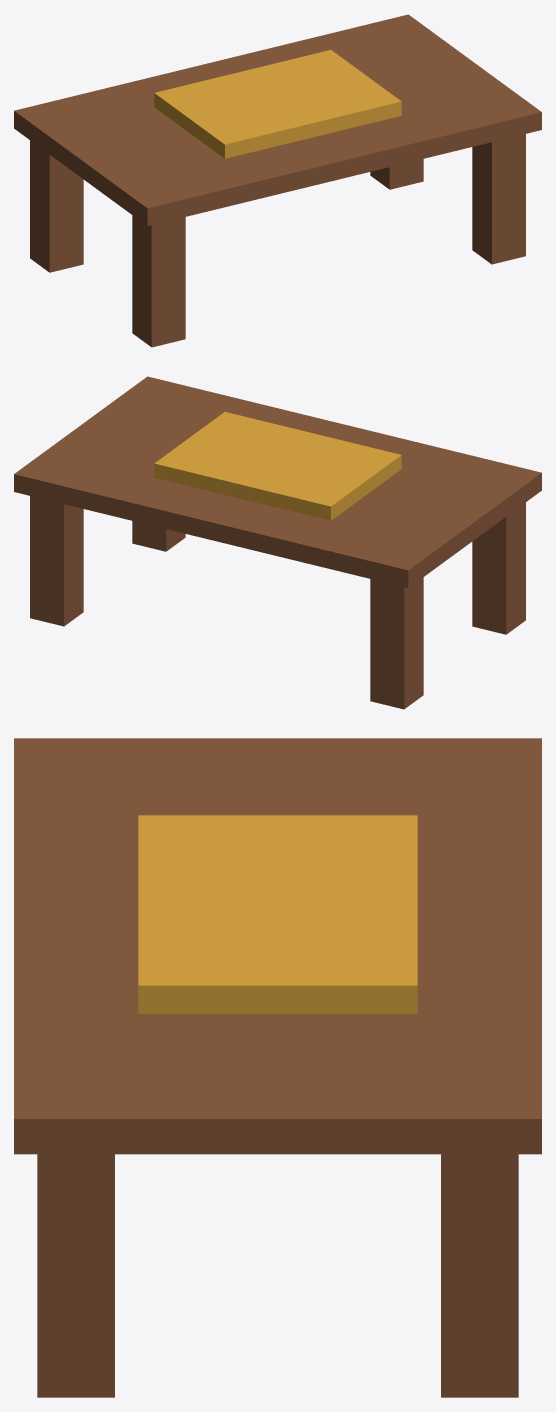
Rendered from low_table.glb.
3 views of the same model, one above another, from view 1: azimuth 30°, elevation 25°; view 2: azimuth 150°, elevation 25°; view 3: azimuth 270°, elevation 25° (orthographic). The views are drawn at different scales.
Visible parts, largest first — view 1: low_table-col; view 2: low_table-col; view 3: low_table-col.
Part boxes in pixels (bbox=[...]): low_table-col: bbox=[14, 14, 541, 347]; low_table-col: bbox=[14, 376, 541, 709]; low_table-col: bbox=[14, 738, 541, 1397].
Size of the model in its own units: 1.16 by 0.45 by 0.68.
